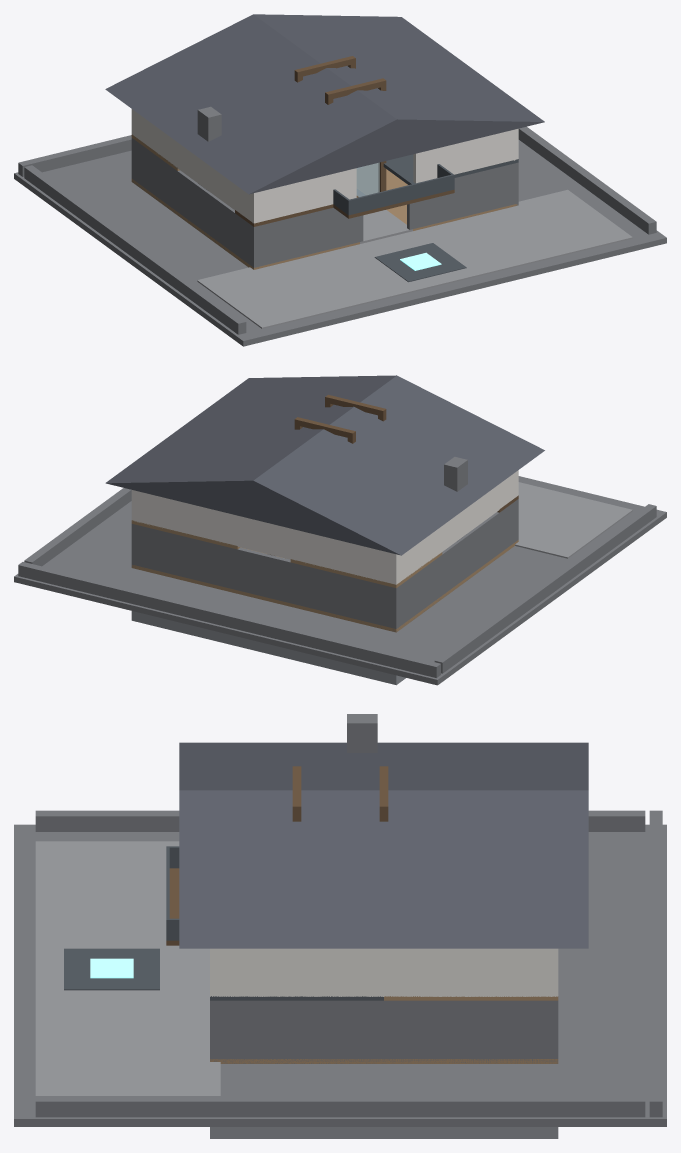
Rendered from villa_auren.glb.
3 renders of one model, top to bottom at view 1: azimuth 30°, elevation 25°; view 2: azimuth 150°, elevation 25°; view 3: azimuth 270°, elevation 25°, orthographic. The views are drawn at different scales.
Parts seen in each view (by area): view 1: ARCH_Roof_Alpine_Main, ENV_Courtyard_Pavement, ENV_Terrain_Base, ARCH_Wall_PB_Ext_West, ENV_Wall_West, ARCH_Wall_PB_Ext_South_West, ARCH_Wall_PB_Ext_South_East, ARCH_Wall_P1_Ext_West, ARCH_Wall_P1_Ext_South_East, ARCH_Wall_P1_Ext_South_West, ENV_Wall_East, ARCH_Railing_Balcony_Front (+10 smaller); view 2: ARCH_Roof_Alpine_Main, ENV_Terrain_Base, ARCH_Wall_PB_Ext_North, ARCH_Wall_P1_Ext_North, ENV_Wall_North, ARCH_Wall_PB_Ext_West, ENV_Courtyard_Pavement, ENV_Wall_West, ARCH_Wall_P1_Ext_West, ENV_Wall_East, ARCH_Lab_Wall_North, ARCH_Lab_Floor_Slab (+3 smaller); view 3: ARCH_Roof_Alpine_Main, ENV_Terrain_Base, ENV_Courtyard_Pavement, ARCH_Wall_PB_Ext_East, ARCH_Wall_P1_Ext_East, ENV_Wall_East, ENV_Wall_West, ENV_Wall_North, ENV_Landing_Dais_Base, ARCH_Lab_Floor_Slab, ARCH_Lab_Wall_East, ARCH_Floor_PB_East (+5 smaller).
Part boxes in pixels (bbox=[...]): ARCH_Roof_Alpine_Main: bbox=[105, 14, 544, 194]; ENV_Courtyard_Pavement: bbox=[197, 189, 632, 328]; ENV_Terrain_Base: bbox=[14, 140, 666, 346]; ARCH_Wall_PB_Ext_West: bbox=[131, 138, 258, 267]; ENV_Wall_West: bbox=[24, 165, 246, 334]; ARCH_Wall_PB_Ext_South_West: bbox=[257, 207, 363, 266]; ARCH_Wall_PB_Ext_South_East: bbox=[407, 163, 513, 229]; ARCH_Wall_P1_Ext_West: bbox=[131, 109, 258, 223]; ARCH_Wall_P1_Ext_South_East: bbox=[413, 130, 513, 183]; ARCH_Wall_P1_Ext_South_West: bbox=[257, 168, 356, 222]; ENV_Wall_East: bbox=[518, 126, 656, 234]; ARCH_Railing_Balcony_Front: bbox=[347, 174, 454, 215]; ARCH_Roof_Alpine_Main: bbox=[105, 375, 544, 555]; ENV_Terrain_Base: bbox=[14, 476, 666, 685]; ARCH_Wall_PB_Ext_North: bbox=[136, 525, 391, 629]; ARCH_Wall_P1_Ext_North: bbox=[136, 491, 391, 583]; ENV_Wall_North: bbox=[18, 562, 440, 677]; ARCH_Wall_PB_Ext_West: bbox=[391, 499, 518, 631]; ENV_Courtyard_Pavement: bbox=[515, 482, 632, 558]; ENV_Wall_West: bbox=[434, 504, 656, 673]; ARCH_Wall_P1_Ext_West: bbox=[391, 470, 518, 584]; ENV_Wall_East: bbox=[24, 488, 131, 566]; ARCH_Lab_Wall_North: bbox=[137, 612, 390, 679]; ARCH_Lab_Floor_Slab: bbox=[131, 616, 405, 685]; ARCH_Roof_Alpine_Main: bbox=[179, 742, 588, 948]; ENV_Terrain_Base: bbox=[14, 824, 666, 1126]; ENV_Courtyard_Pavement: bbox=[35, 841, 220, 1095]; ARCH_Wall_PB_Ext_East: bbox=[210, 1000, 558, 1063]; ARCH_Wall_P1_Ext_East: bbox=[210, 948, 558, 996]; ENV_Wall_East: bbox=[35, 1096, 645, 1117]; ENV_Wall_West: bbox=[35, 810, 645, 831]; ENV_Wall_North: bbox=[649, 810, 662, 1117]; ENV_Landing_Dais_Base: bbox=[64, 948, 159, 990]; ARCH_Lab_Floor_Slab: bbox=[210, 1133, 558, 1138]; ARCH_Lab_Wall_East: bbox=[210, 1127, 558, 1132]; ARCH_Floor_PB_East: bbox=[210, 1059, 558, 1063].
Size of the model in its own units: 32 by 13.2 by 30.
